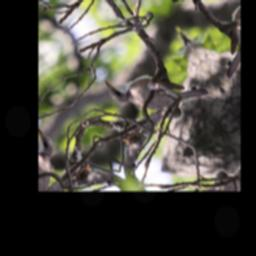Cuckoo: (99, 34, 212, 142)
